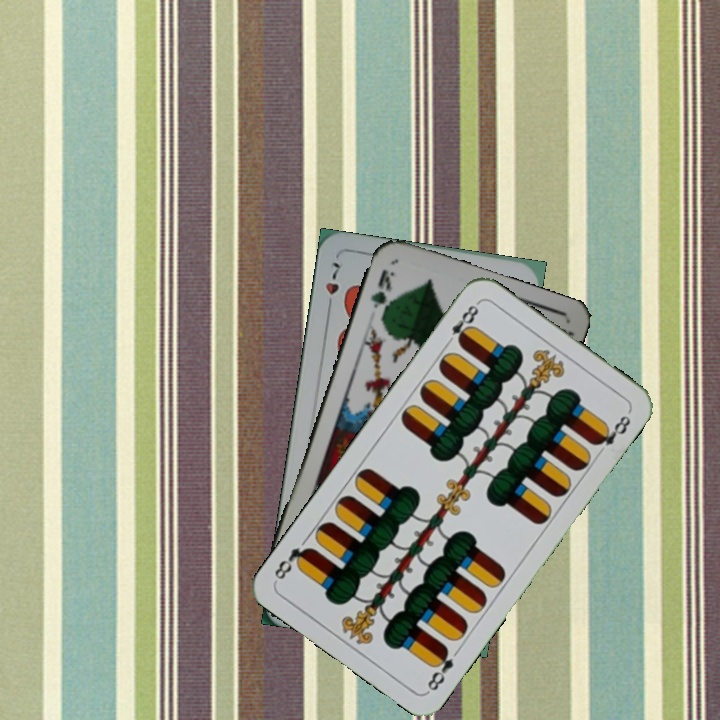E8: (441, 298, 482, 349), (423, 642, 457, 695)
GK: (366, 265, 398, 322)
H7: (321, 258, 343, 314)
